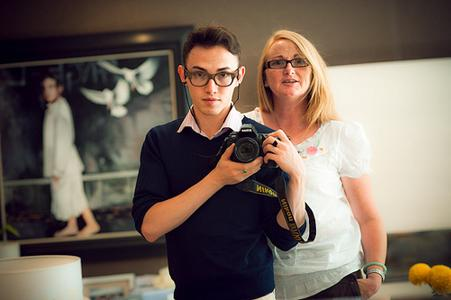person: (132, 26, 307, 300)
